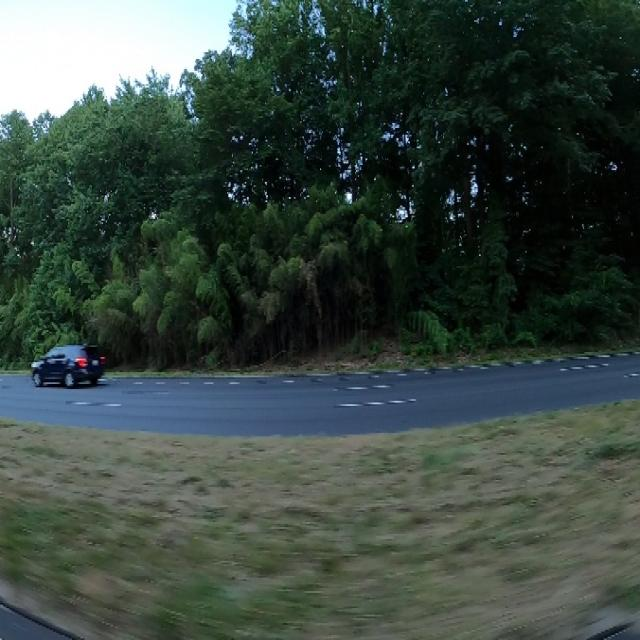car: (24, 325, 106, 394)
